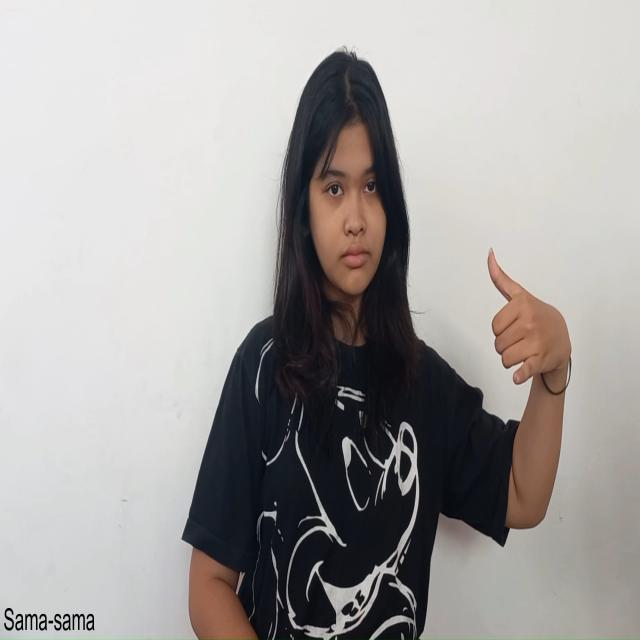Sama-sama -BISINDO-: (486, 244, 574, 400)
